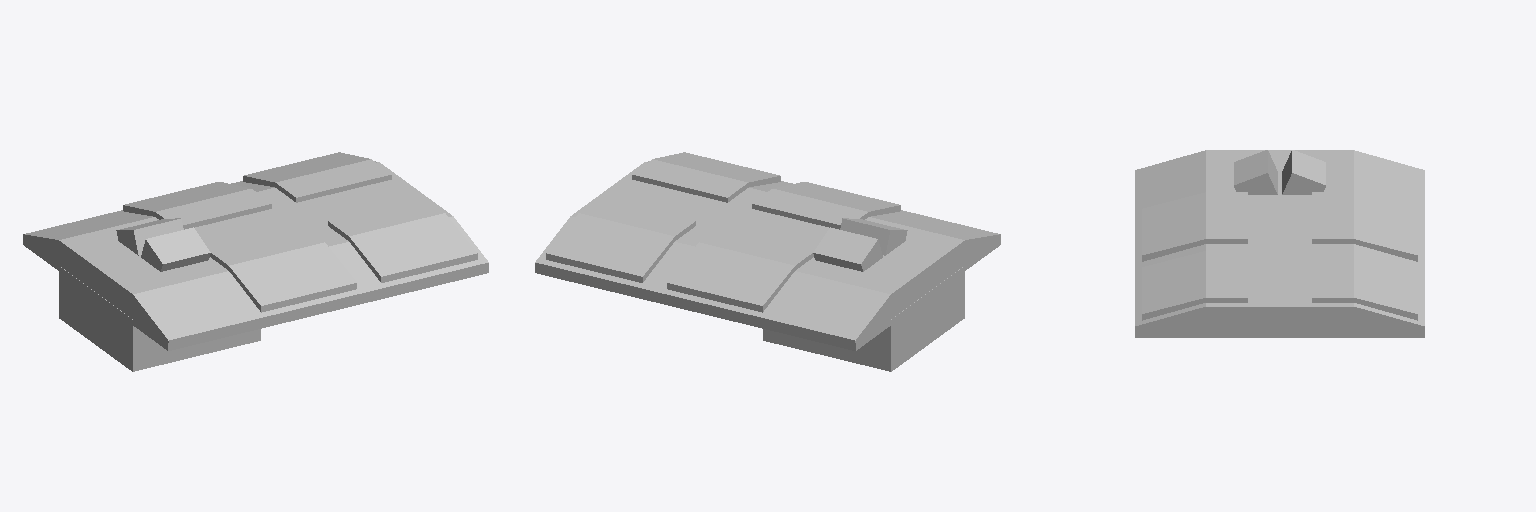
The model's file is df11g_chimney.obj.
3 views of the same model, side by side, from view 1: azimuth 30°, elevation 25°; view 2: azimuth 150°, elevation 25°; view 3: azimuth 270°, elevation 25° (orthographic).
Parts seen in each view (by area): view 1: cube_selection_selection_selection_selection; view 2: cube_selection_selection_selection_selection; view 3: cube_selection_selection_selection_selection.
Part boxes in pixels (x1,y1,x2,y2): cube_selection_selection_selection_selection: (23, 152, 488, 371); cube_selection_selection_selection_selection: (535, 152, 1000, 371); cube_selection_selection_selection_selection: (1135, 150, 1424, 337).
Size of the model in its own units: 2.5 by 0.7426 by 1.96.